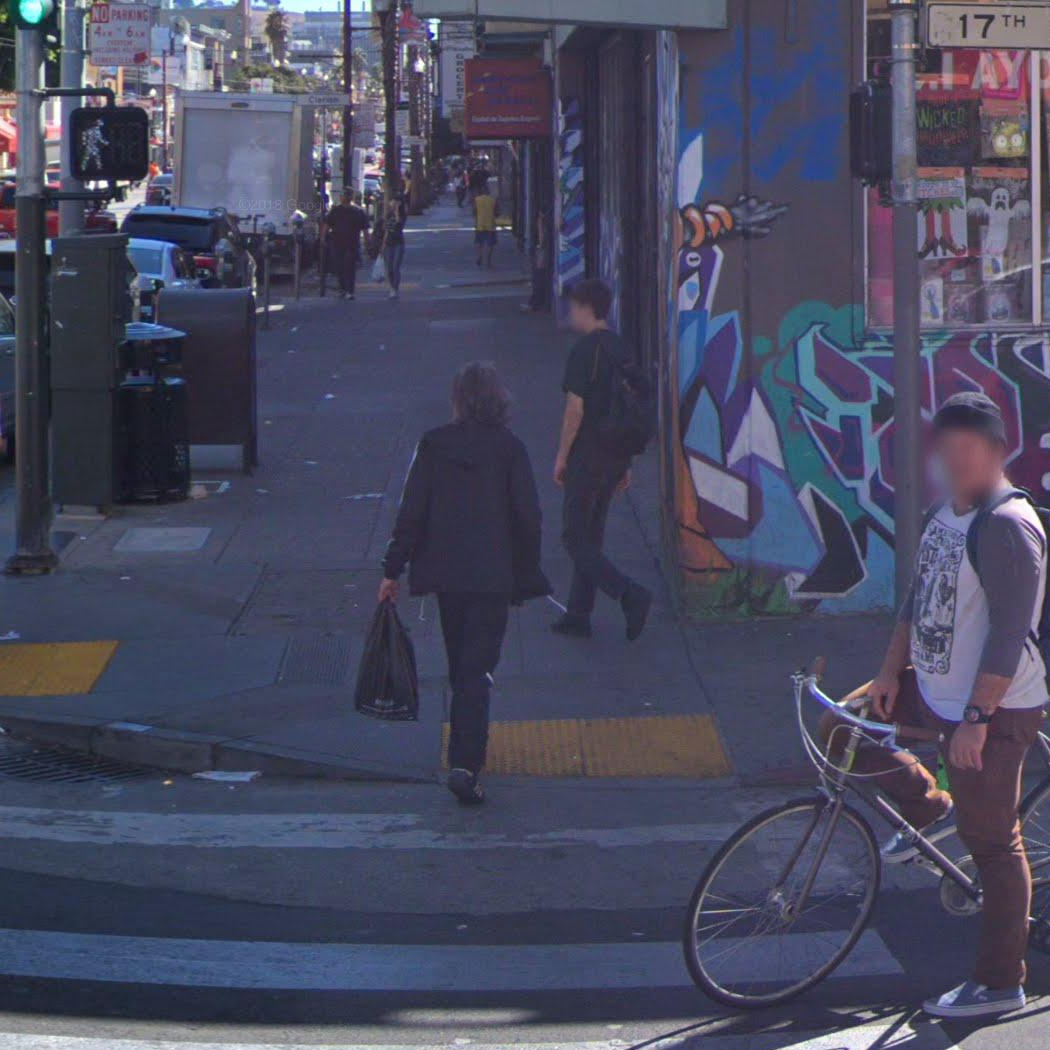No Parking: (88, 2, 153, 70)
